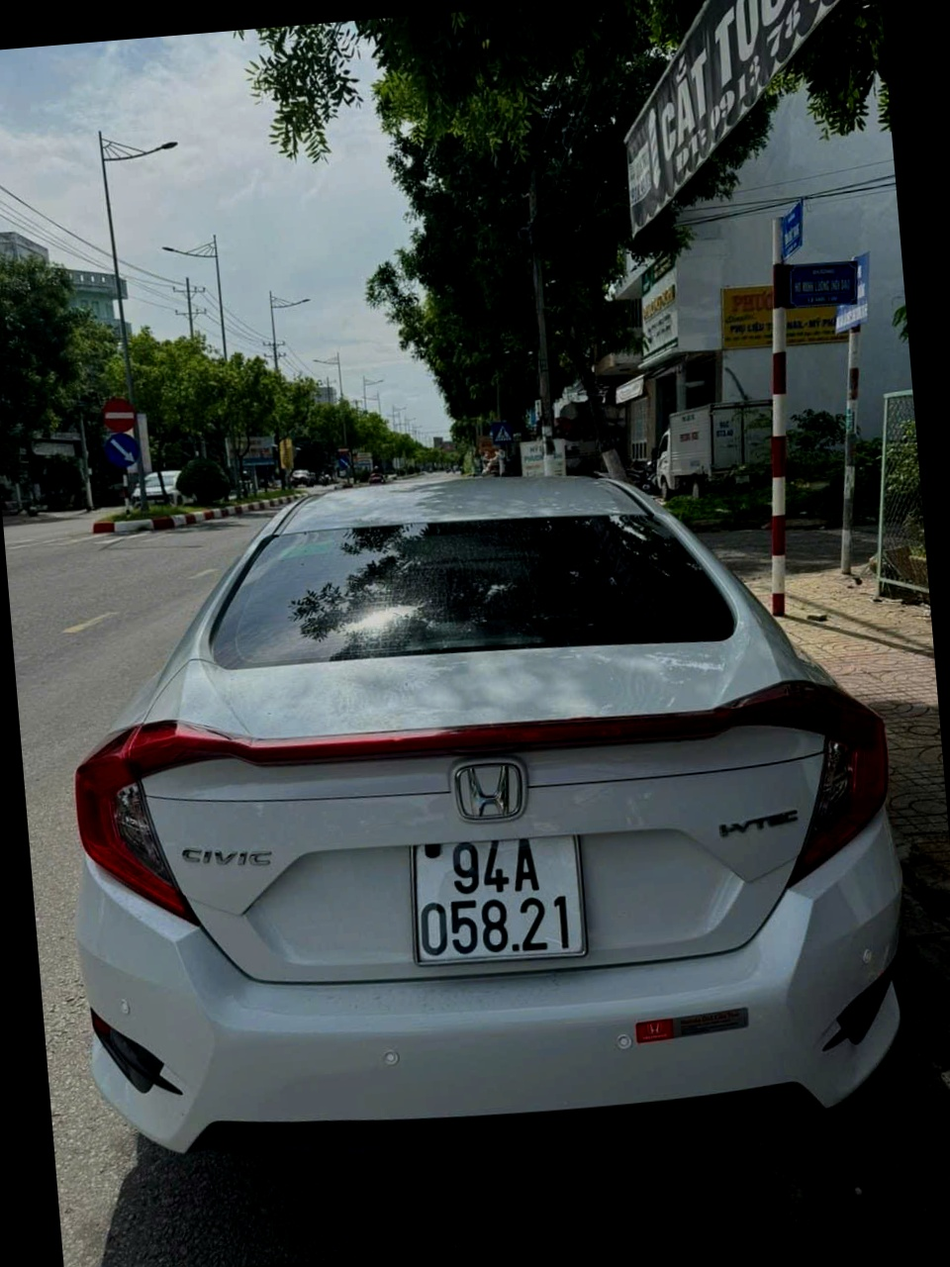Bien-so: (357, 847, 560, 1001)
